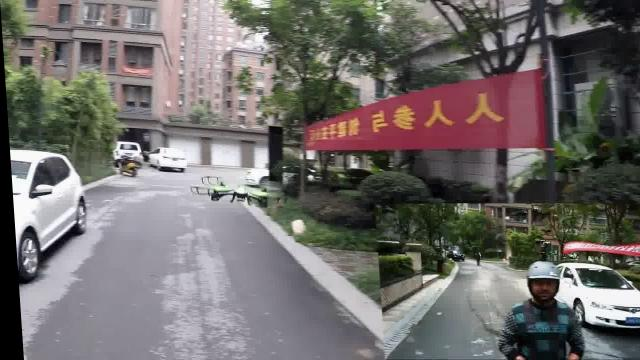drone: (181, 166, 276, 207)
